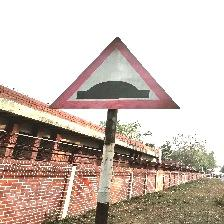Speed-breaker: (54, 41, 175, 108)
